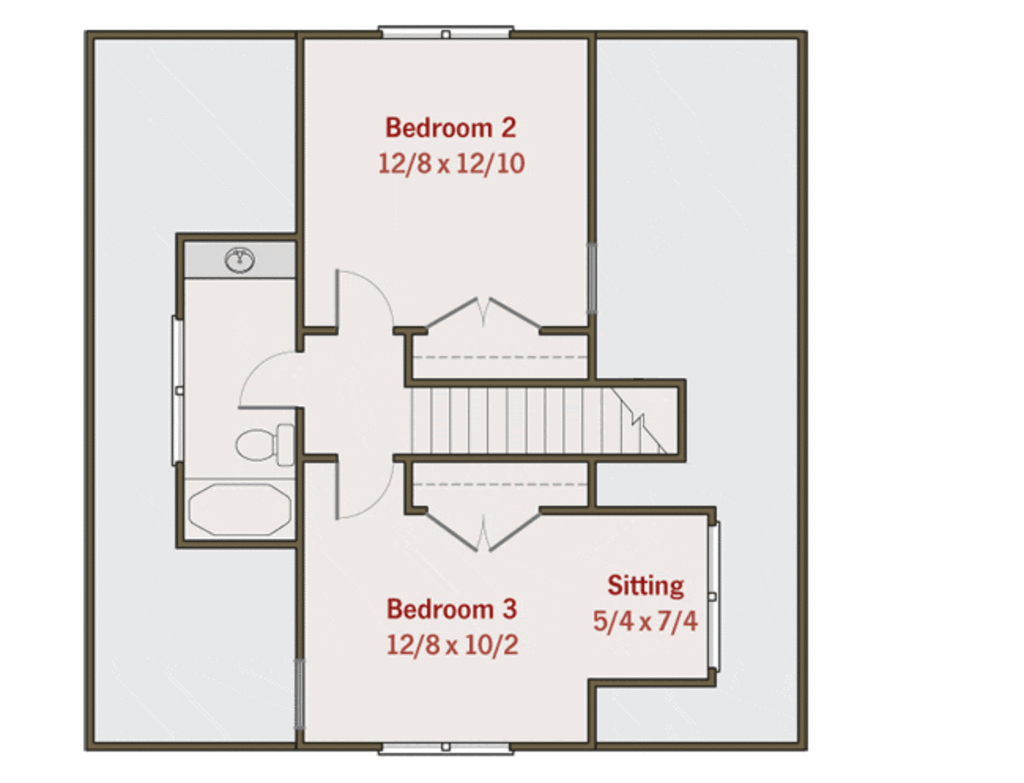door: (426, 294, 548, 330), (430, 515, 546, 552), (329, 266, 393, 332), (327, 462, 396, 517), (236, 350, 299, 404)
large_sink: (230, 423, 297, 470)
small_sink: (220, 241, 266, 281)
stairs: (402, 387, 685, 465)
tub: (188, 474, 293, 538)
window: (380, 736, 512, 757), (168, 318, 185, 465), (708, 526, 725, 672), (382, 29, 515, 39)
